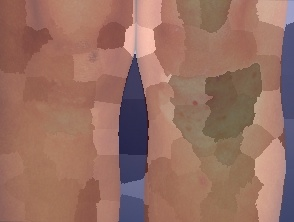vitiligo: (148, 46, 272, 187), (8, 55, 122, 177)
